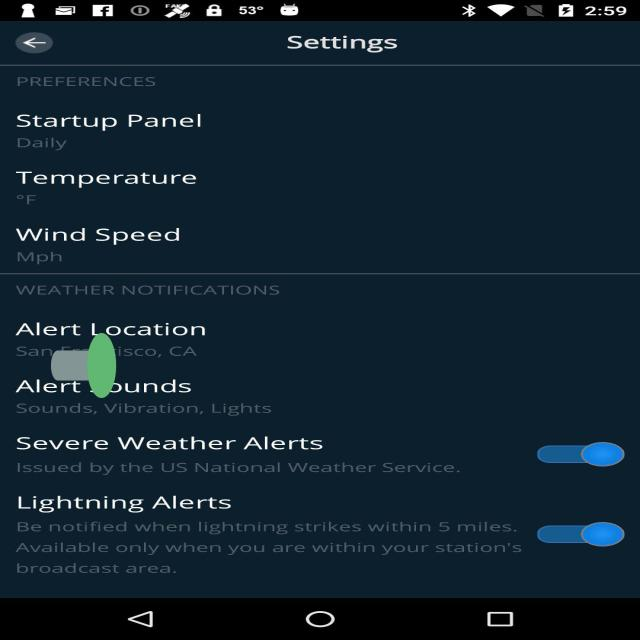social proof: (51, 293, 116, 438)
